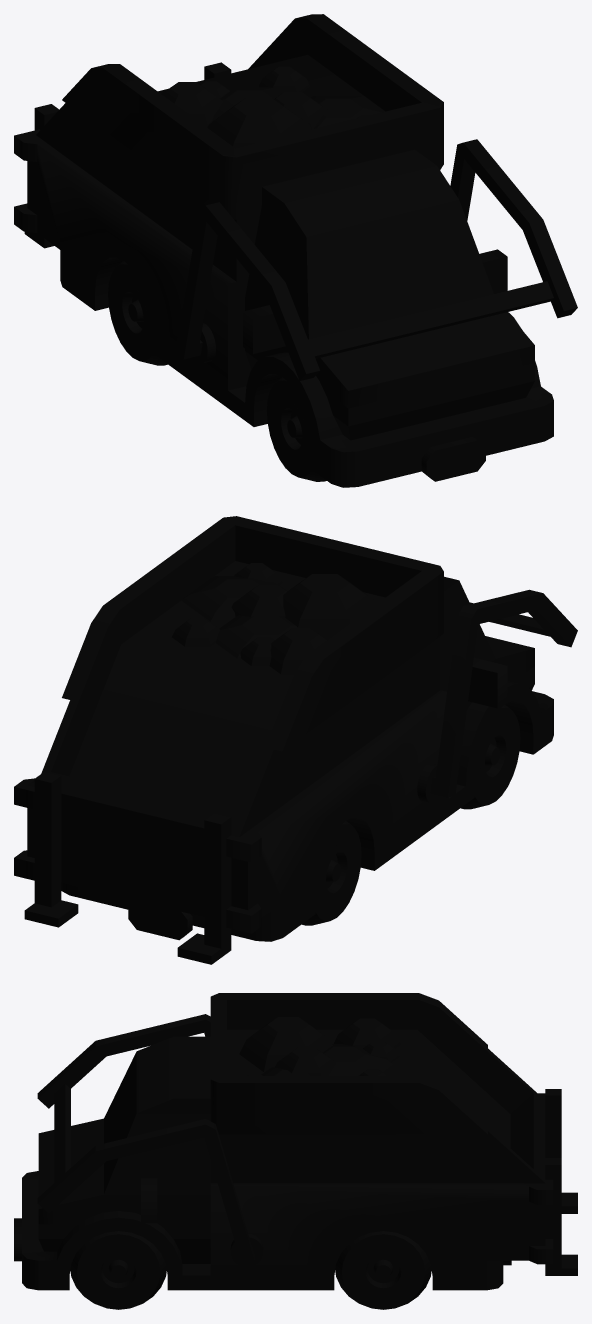
The model's file is garbage-truck.glb.
3 renders of one model, top to bottom at view 1: azimuth 30°, elevation 25°; view 2: azimuth 150°, elevation 25°; view 3: azimuth 270°, elevation 25°, orthographic. The views are drawn at different scales.
Visible parts, largest first — view 1: body, arm, trash, wheel-front-right (×2); view 2: body, trash, arm, wheel-front-right (×2); view 3: body, wheel-front-left (×2), arm, trash.
Part boxes in pixels (left/top/right/bottom): body: left=14, top=14, right=553, bottom=487; arm: left=176, top=139, right=577, bottom=380; trash: left=161, top=66, right=385, bottom=148; wheel-front-right (×2): left=108, top=261, right=326, bottom=481; body: left=14, top=516, right=553, bottom=964; trash: left=172, top=563, right=376, bottom=674; arm: left=417, top=589, right=577, bottom=803; wheel-front-right (×2): left=302, top=704, right=520, bottom=925; body: left=14, top=993, right=577, bottom=1290; wheel-front-left (×2): left=70, top=1231, right=431, bottom=1309; arm: left=37, top=1014, right=263, bottom=1266; trash: left=239, top=1017, right=401, bottom=1075.
Size of the model in its own units: 1.6 by 1.6 by 3.45.
1 material, 1 textured.
